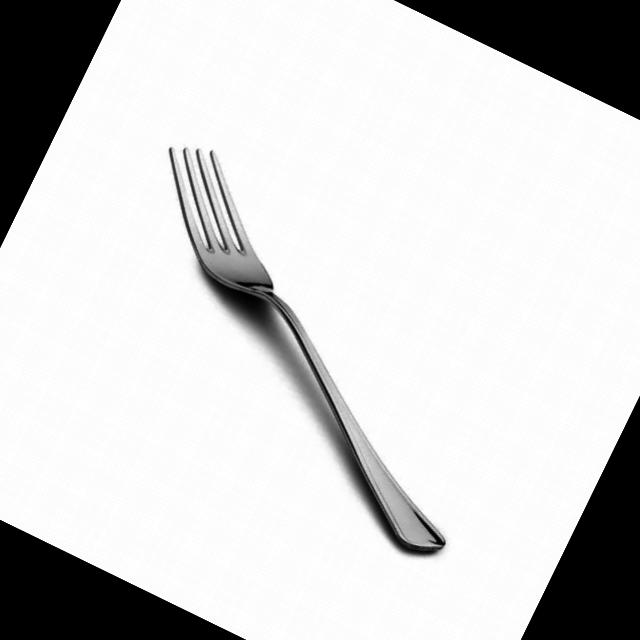fork: (51, 128, 556, 568)
